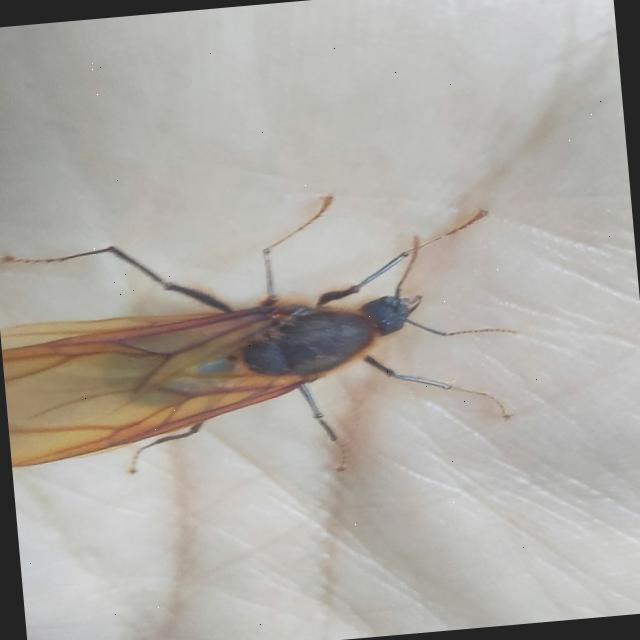Alive-Male-Alate: (0, 180, 530, 502)
